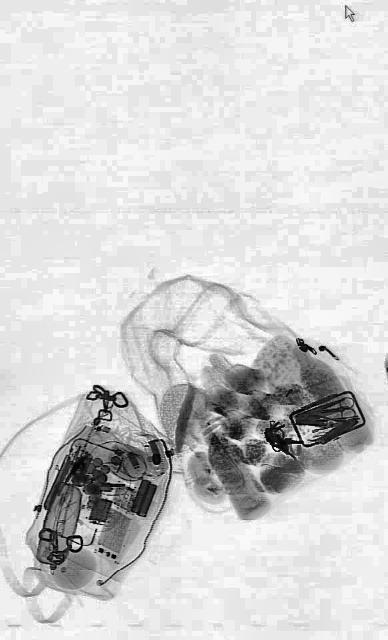Scissors: (310, 391, 358, 434)
